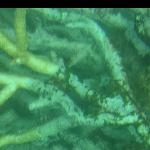dead: (3, 9, 147, 146)
